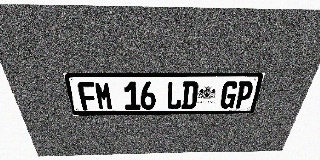1: (123, 82, 140, 110)
6: (140, 82, 156, 109)
D: (181, 81, 199, 109)
F: (77, 82, 98, 110)
G: (219, 81, 239, 108)
L: (166, 81, 183, 109)
M: (94, 82, 113, 110)
P: (233, 81, 255, 108)
